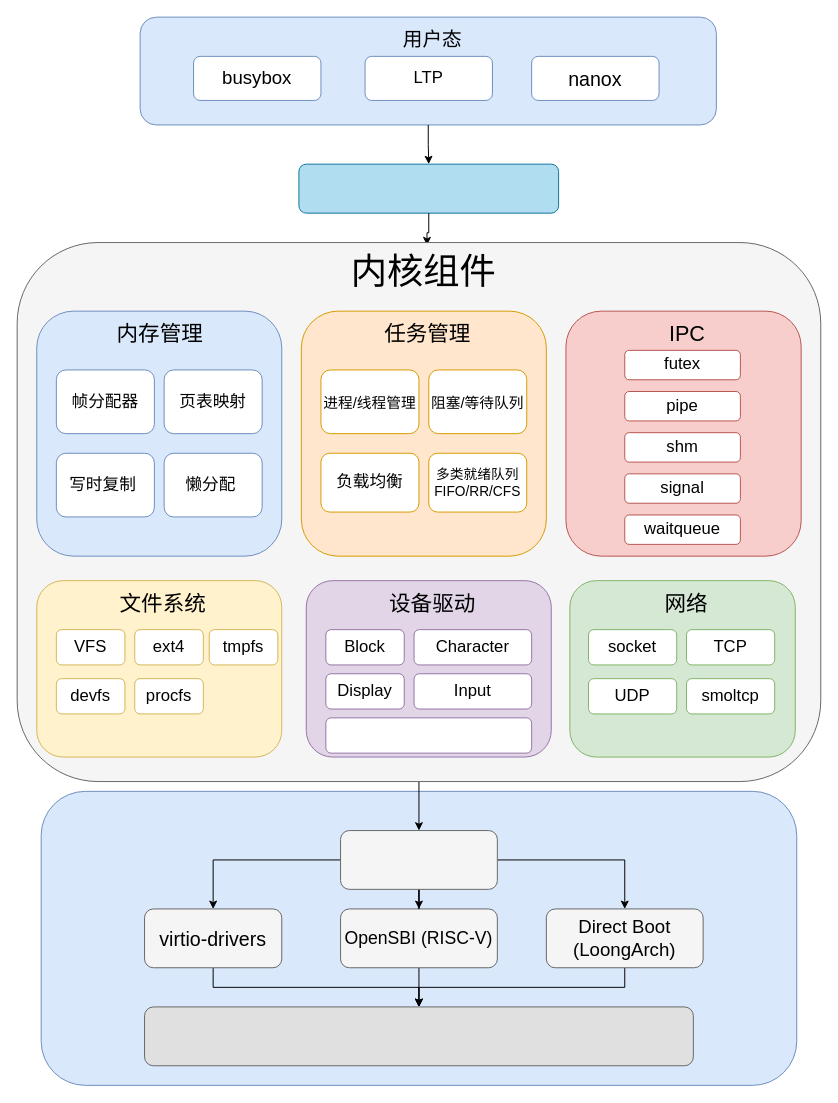
This 838x1103 diagram has some shape labels left out. Each missing label, with the centre of its shape:
"HardWare" belongs at point 418,1036.
"Linux ABI syscall" belongs at point 428,188.
"Network" belongs at point 428,735.
"Platform架构分离" belongs at point 418,859.
